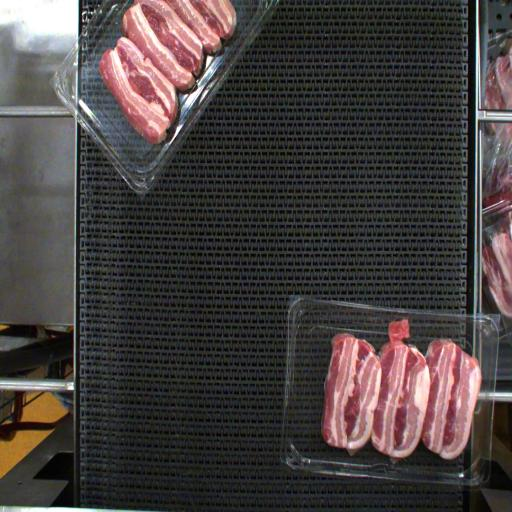loose-meat: (387, 316, 413, 342)
